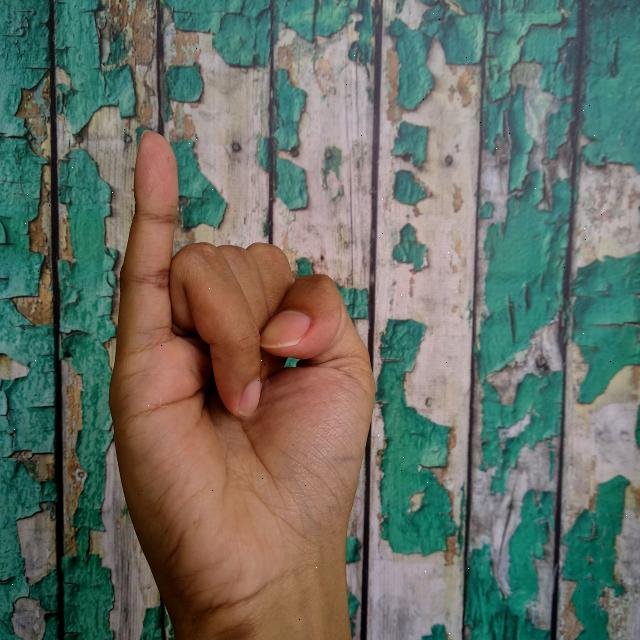I: (102, 120, 382, 640)
